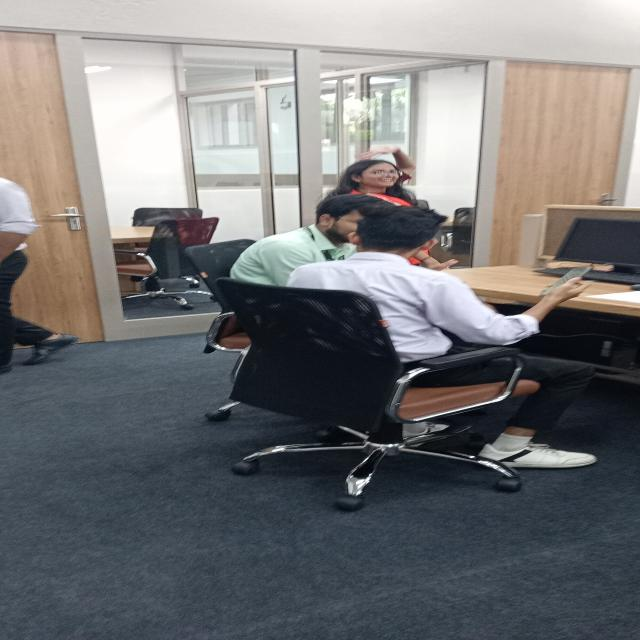unsafe: (302, 208, 610, 470), (230, 191, 397, 293)
